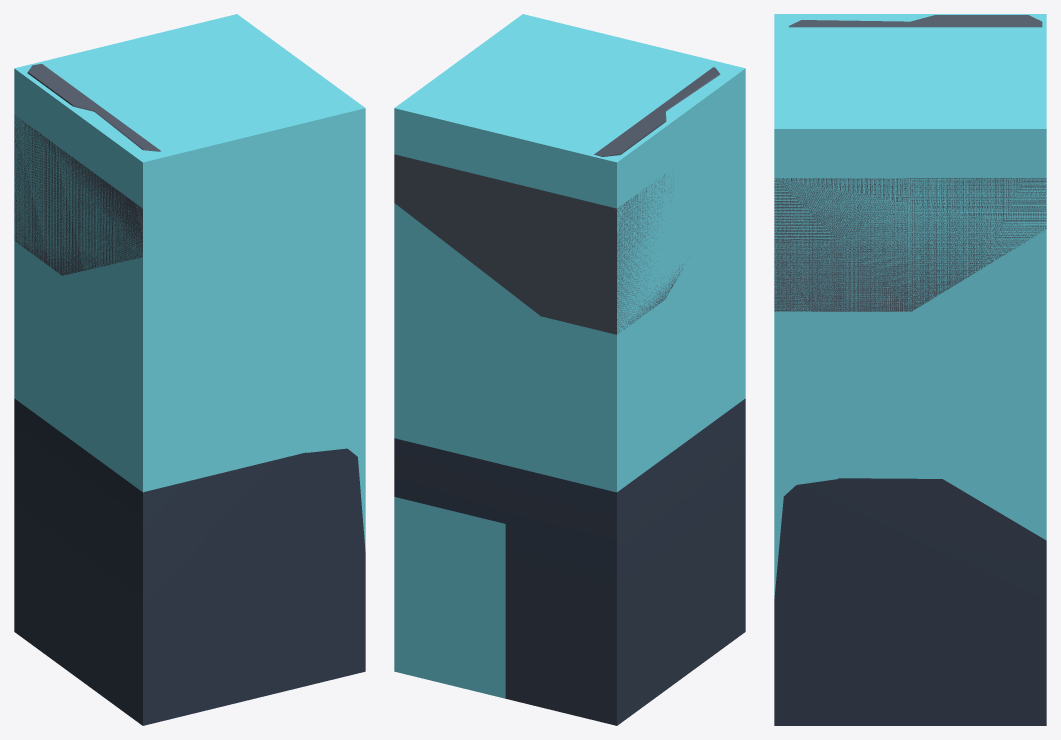
Rendered from PBOX1_FLA_01.FBX.
The picture shows the model from 3 angles, left to right: view 1: azimuth 30°, elevation 25°; view 2: azimuth 150°, elevation 25°; view 3: azimuth 270°, elevation 25°; orthographic projection. The views are drawn at different scales.
Visible parts, largest first — view 1: PBOX1_FLA_01, RT006, PBOX1_SUB_FLA_005; view 2: PBOX1_FLA_01, RT006, PBOX1_SUB_FLA_005; view 3: PBOX1_FLA_01, RT006, PBOX1_SUB_FLA_005.
Part boxes in pixels (x1=…): PBOX1_FLA_01: x1=14, y1=14, x2=365, y2=551; RT006: x1=14, y1=398, x2=365, y2=725; PBOX1_SUB_FLA_005: x1=14, y1=63, x2=160, y2=275; PBOX1_FLA_01: x1=394, y1=14, x2=745, y2=698; RT006: x1=394, y1=398, x2=745, y2=725; PBOX1_SUB_FLA_005: x1=394, y1=67, x2=720, y2=334; PBOX1_FLA_01: x1=774, y1=14, x2=1046, y2=598; RT006: x1=774, y1=478, x2=1046, y2=725; PBOX1_SUB_FLA_005: x1=774, y1=15, x2=1046, y2=311.
Size of the model in its own units: 6 by 14.54 by 6.
